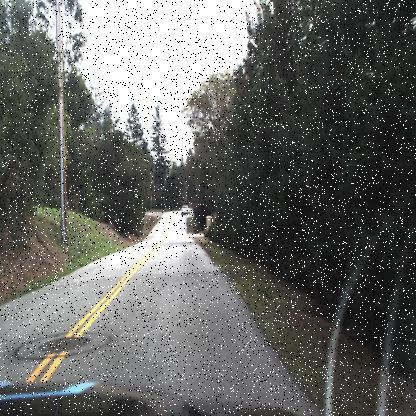car: (178, 200, 192, 218), (178, 201, 192, 217)
